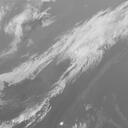cyclone: (38, 33, 97, 92)
